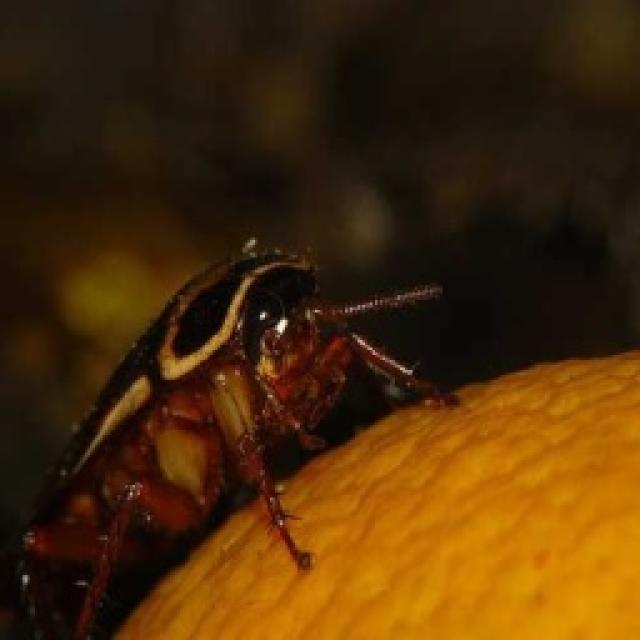cockroach: (13, 231, 463, 637)
